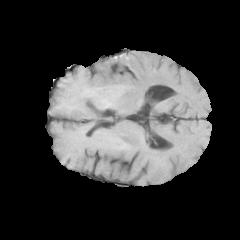glioma: (66, 54, 183, 120)
